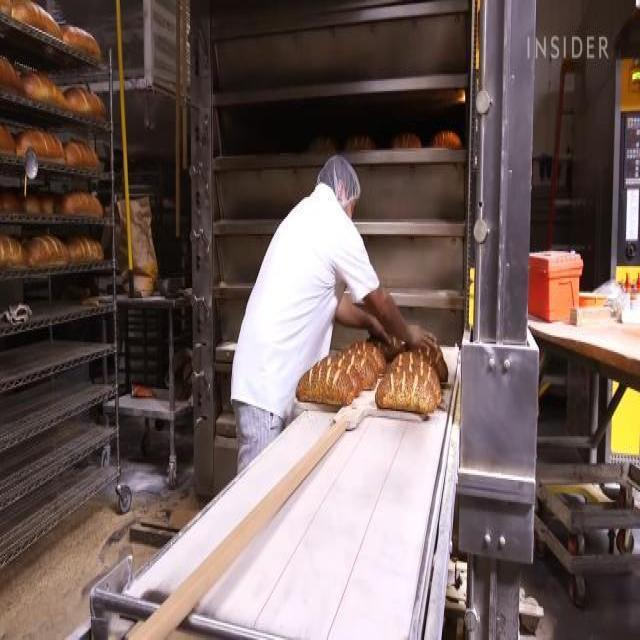bare_hand: (403, 308, 441, 359), (362, 308, 394, 355)
